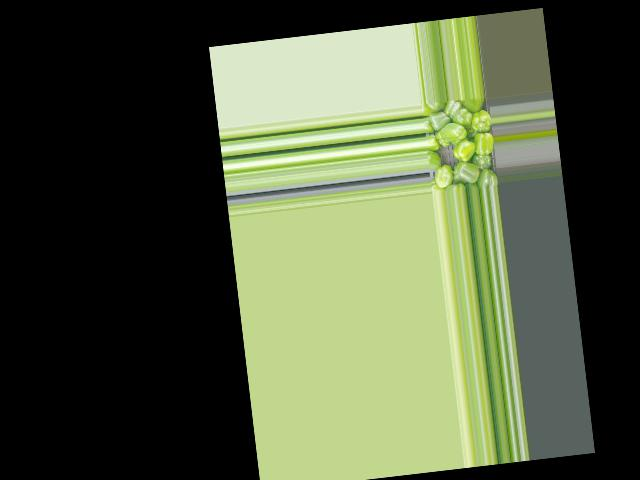bell_pepper: (460, 96, 480, 113)
